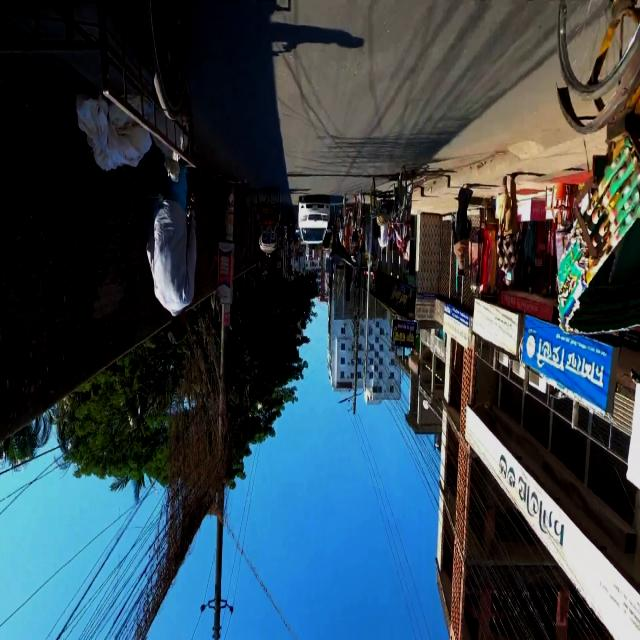white: (297, 191, 334, 252)
